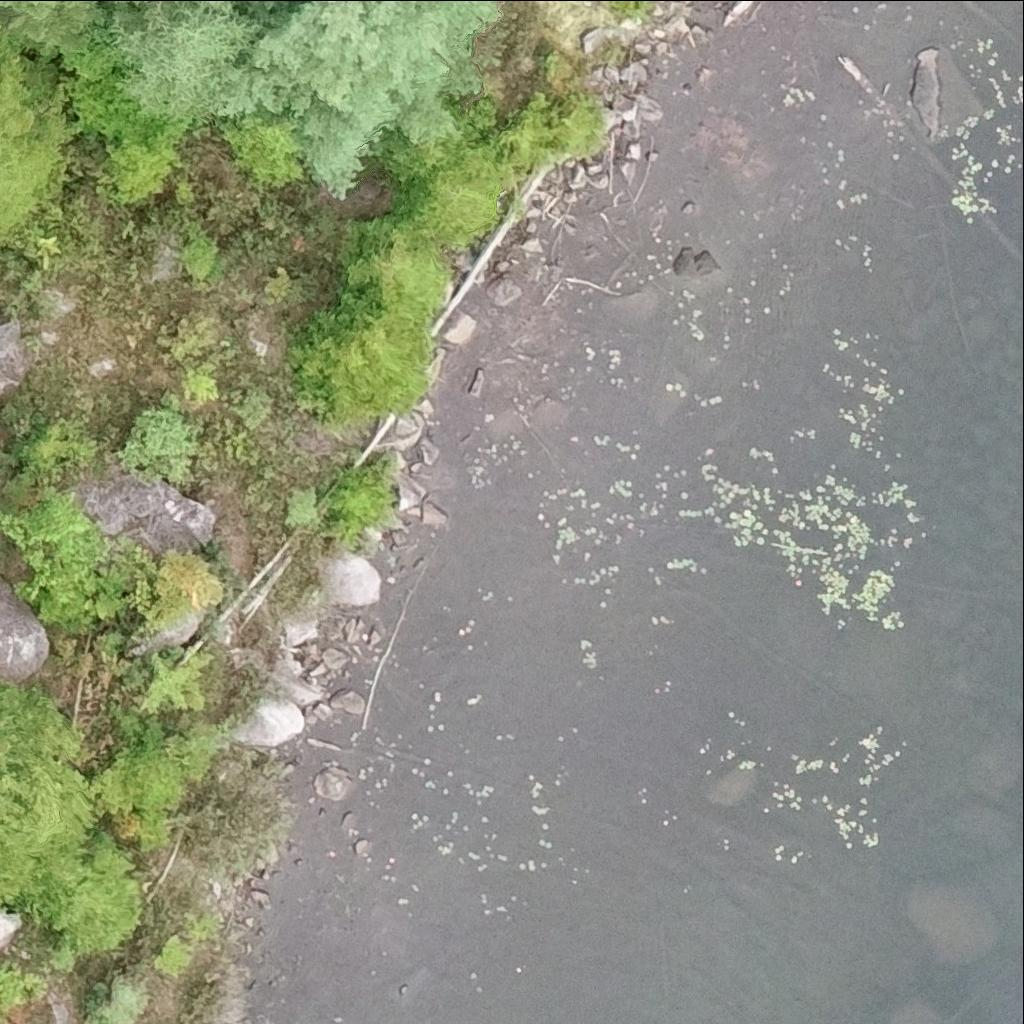crown: (219, 0, 501, 201), (380, 91, 606, 250), (285, 278, 432, 424), (0, 684, 96, 902), (0, 486, 127, 632), (110, 0, 261, 116), (16, 834, 141, 966), (0, 57, 74, 240), (337, 213, 456, 324), (0, 0, 105, 55), (146, 0, 165, 29), (204, 0, 230, 12)
